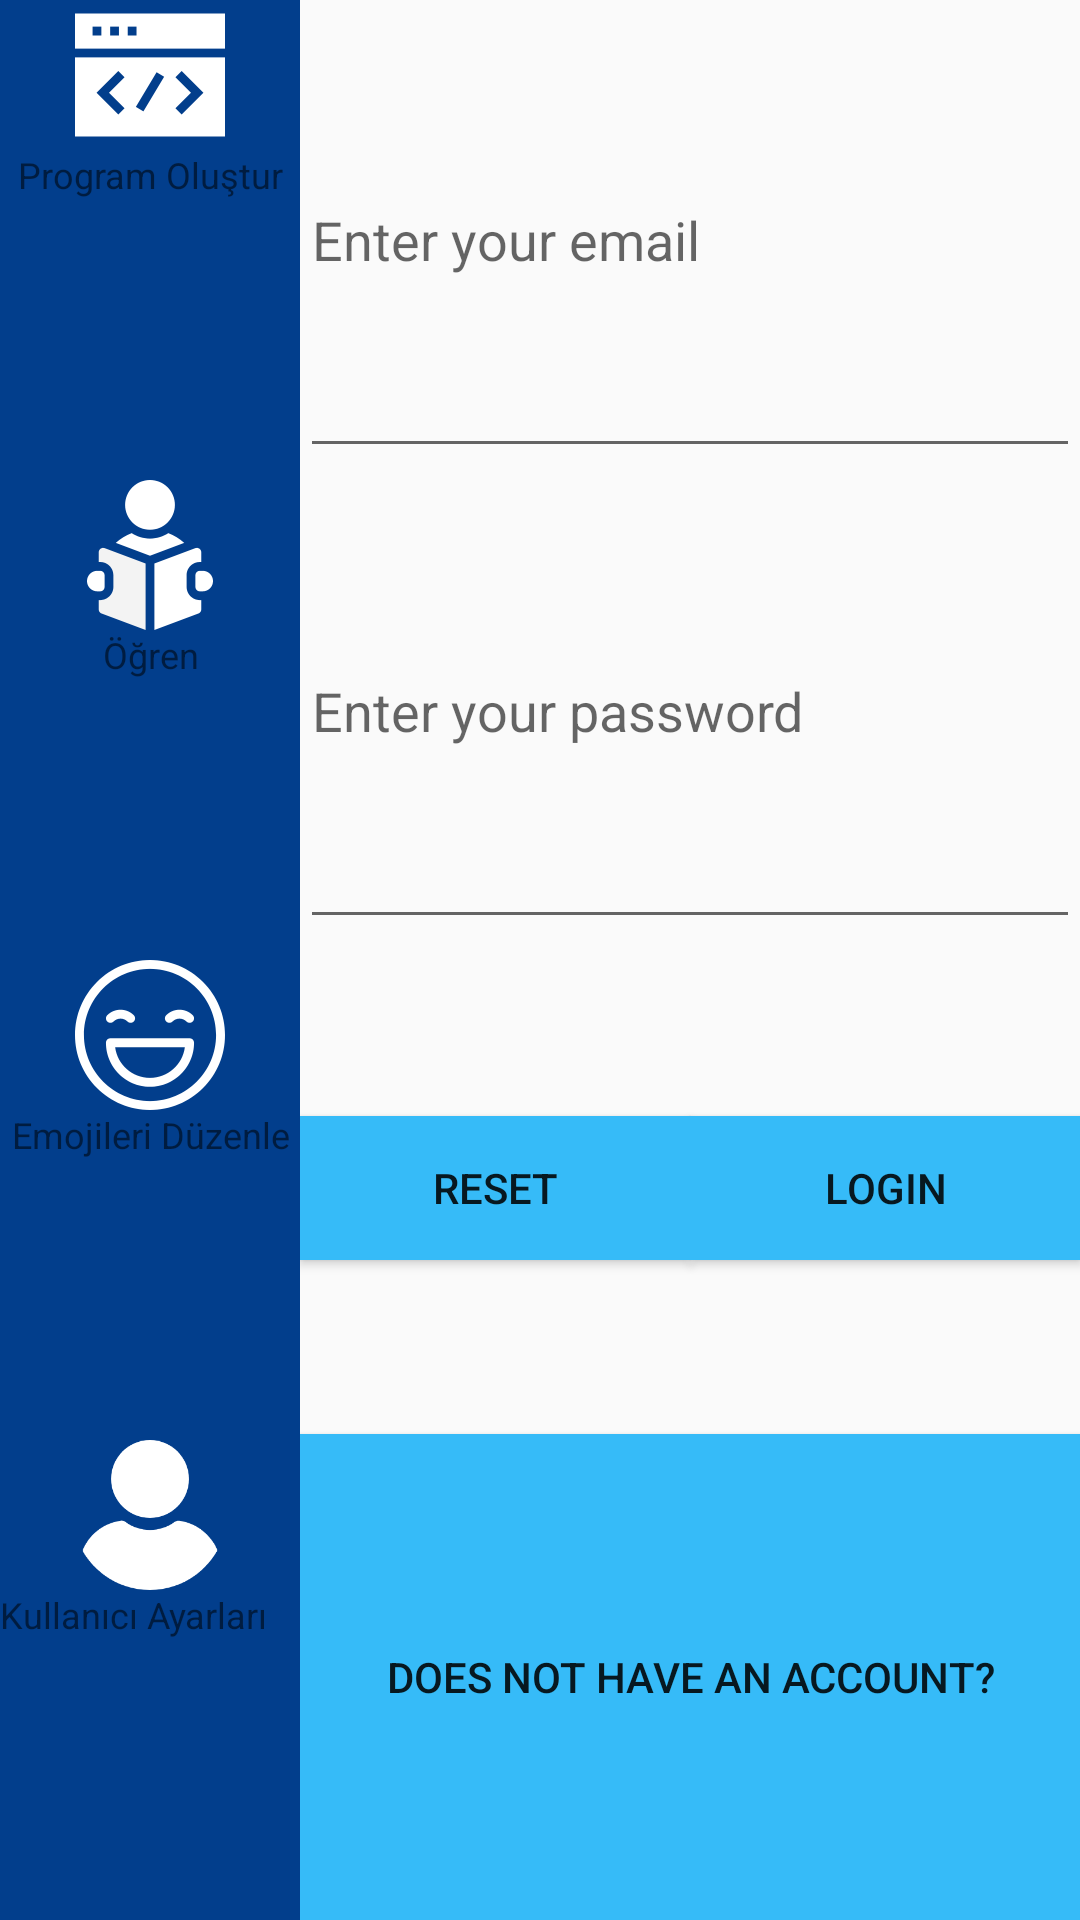

Icon bounding boxes for this 1080 x 1920 phone screenshot, format [x1=x1, y1=y1, x2=x2, y2=y2]:
coding: [x1=75, y1=13, x2=225, y2=137]
happy: [x1=75, y1=960, x2=225, y2=1110]
